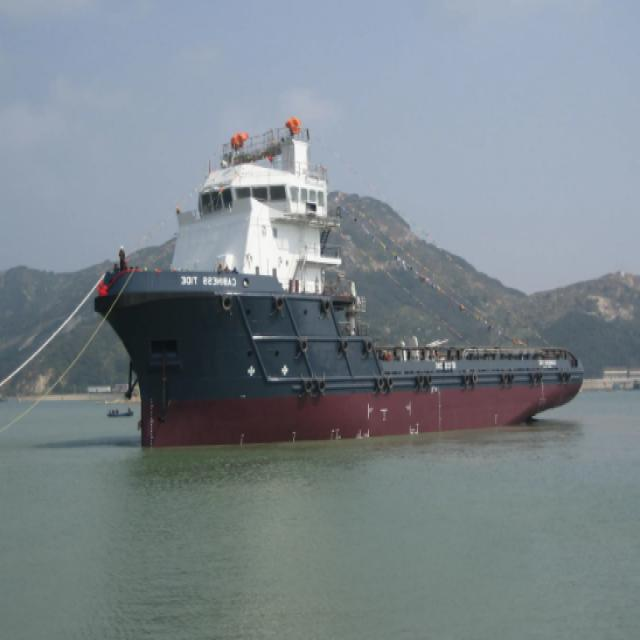cargoship: (102, 115, 580, 448)
